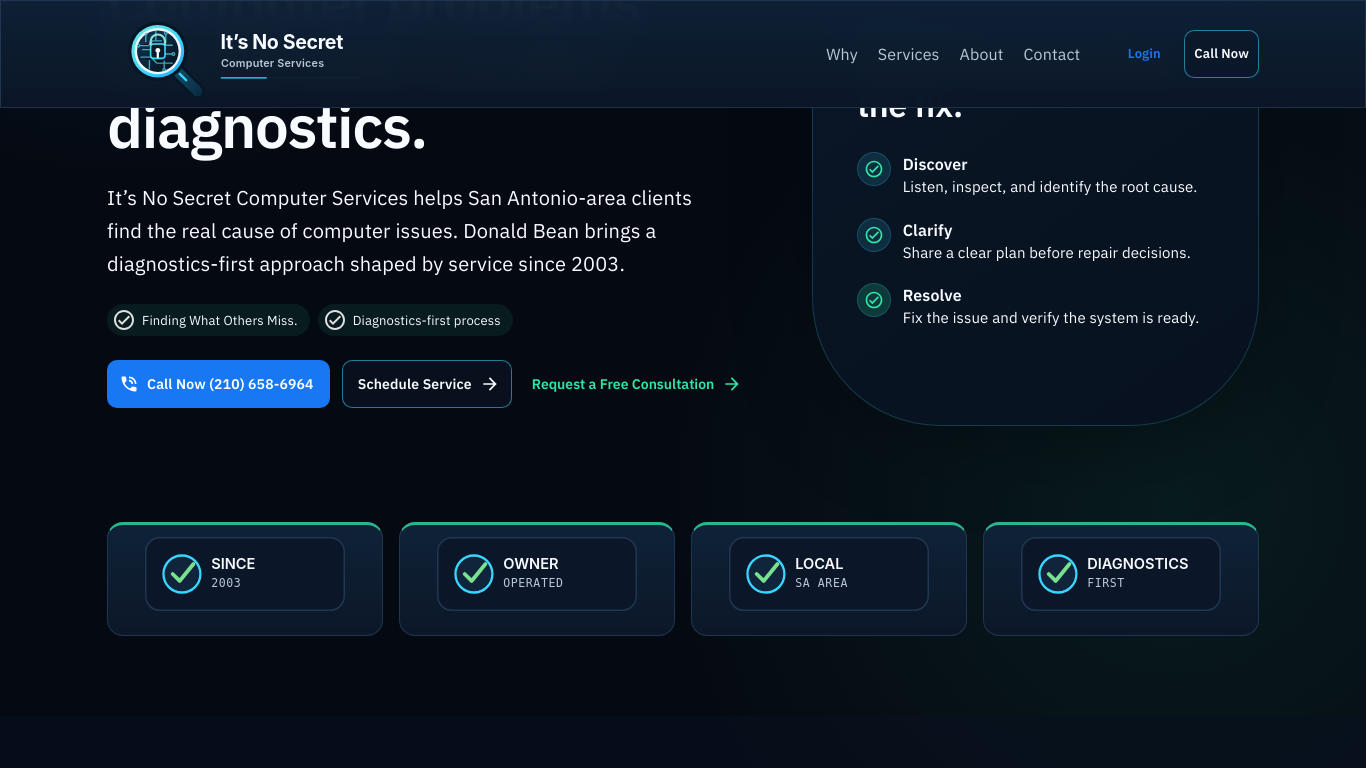
Test: It’s No Secret marketing site › validates and submits the consultation modal payload to the public leads endpoint
The width and height of the screenshot is (1366, 768).
(page scrolled)
Click the button "Request a Free Consultation": {"x": 635, "y": 384} [524,360,746,408]
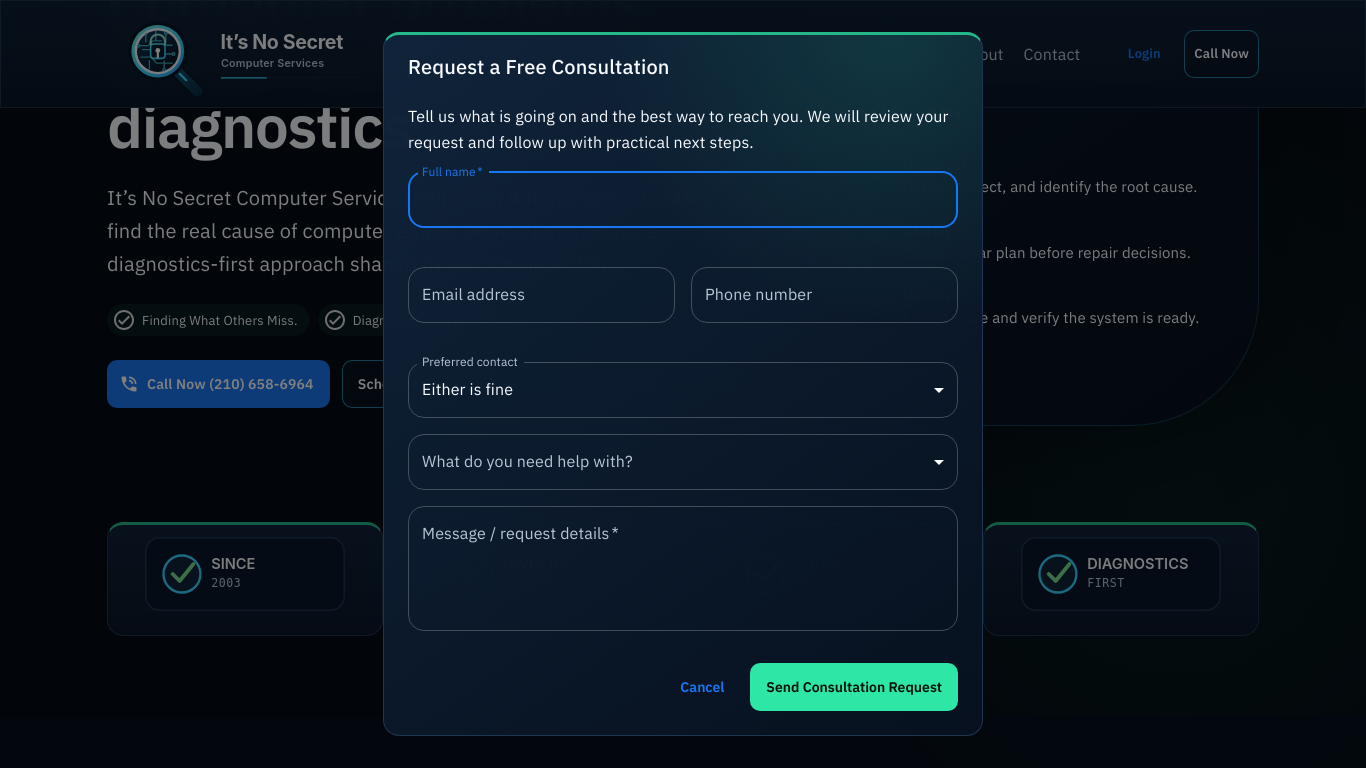
Click the button "Send Consultation Request": {"x": 854, "y": 687} [750,663,958,711]
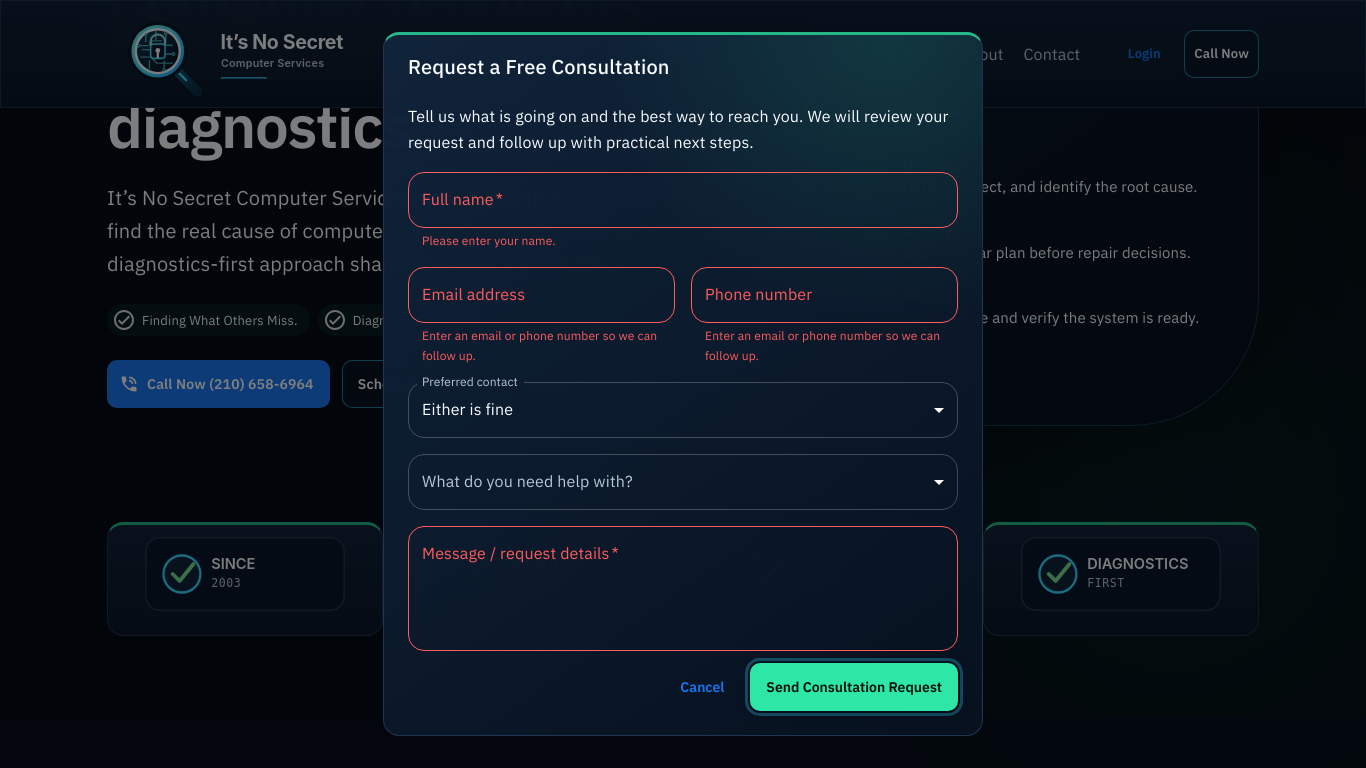
Result: the text "Please enter your name." is shown at [422,233,556,248]
In the field labelled "Full name *": {"x": 683, "y": 200} [408,172,958,228], type " Jane Visitor "
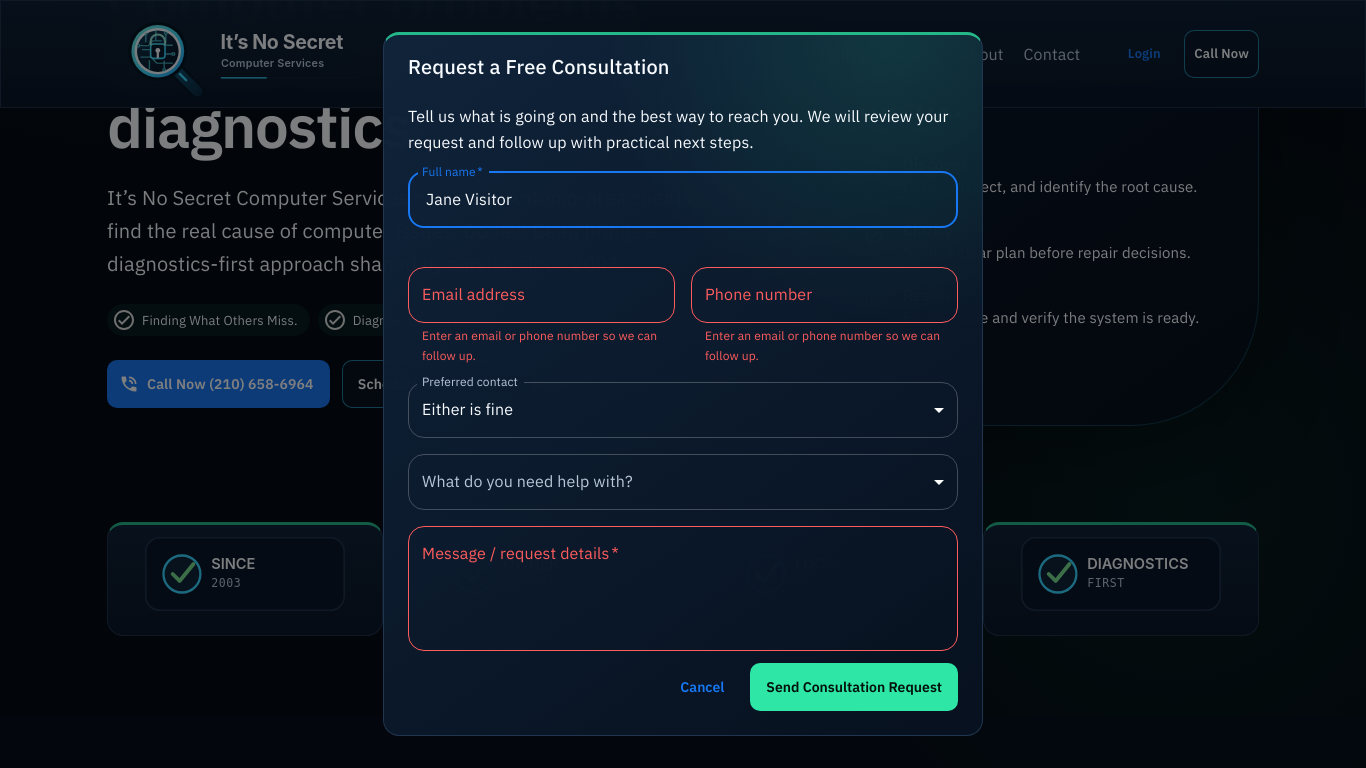
In the field labelled "Email address": {"x": 542, "y": 295} [408,267,675,323], type " JANE@EXAMPLE.COM "
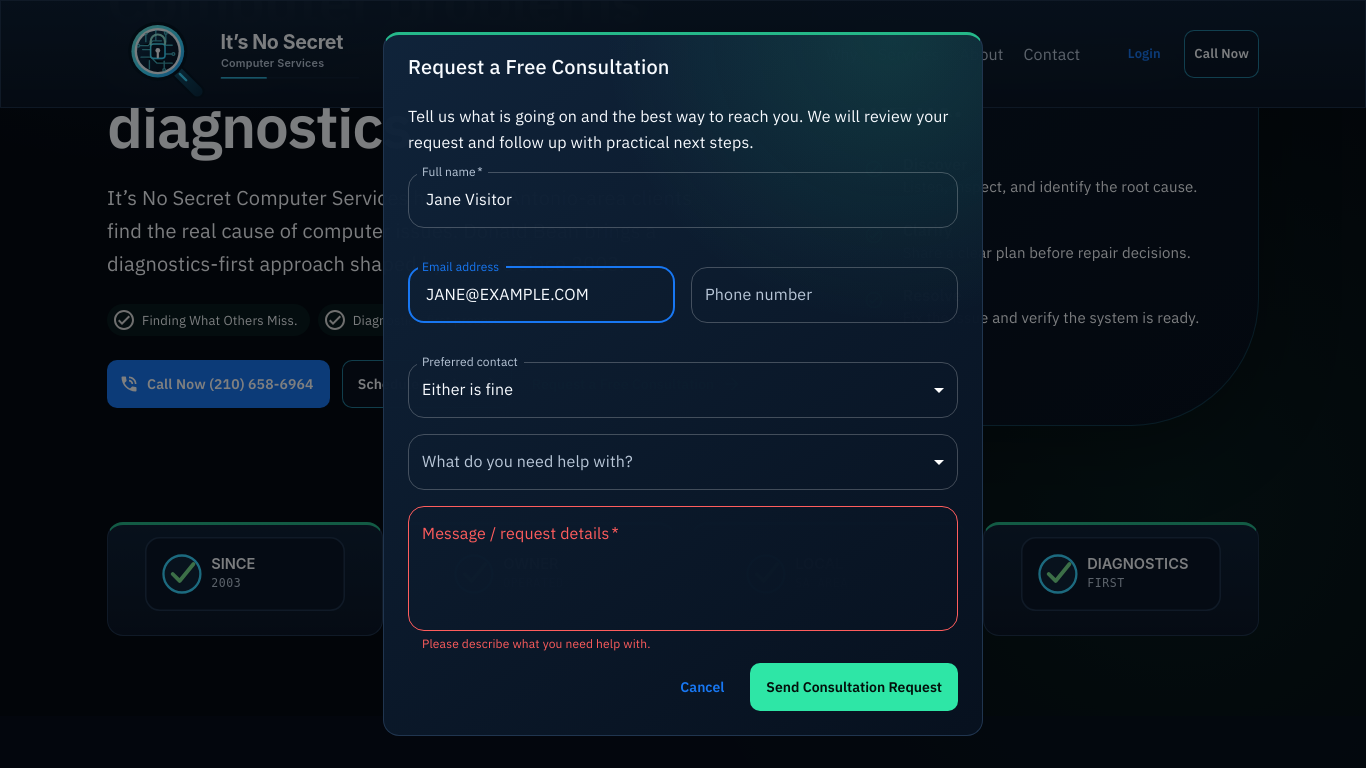
In the text box labelled "Message / request details *": {"x": 683, "y": 568} [422,522,944,614], type " Laptop will not start. "
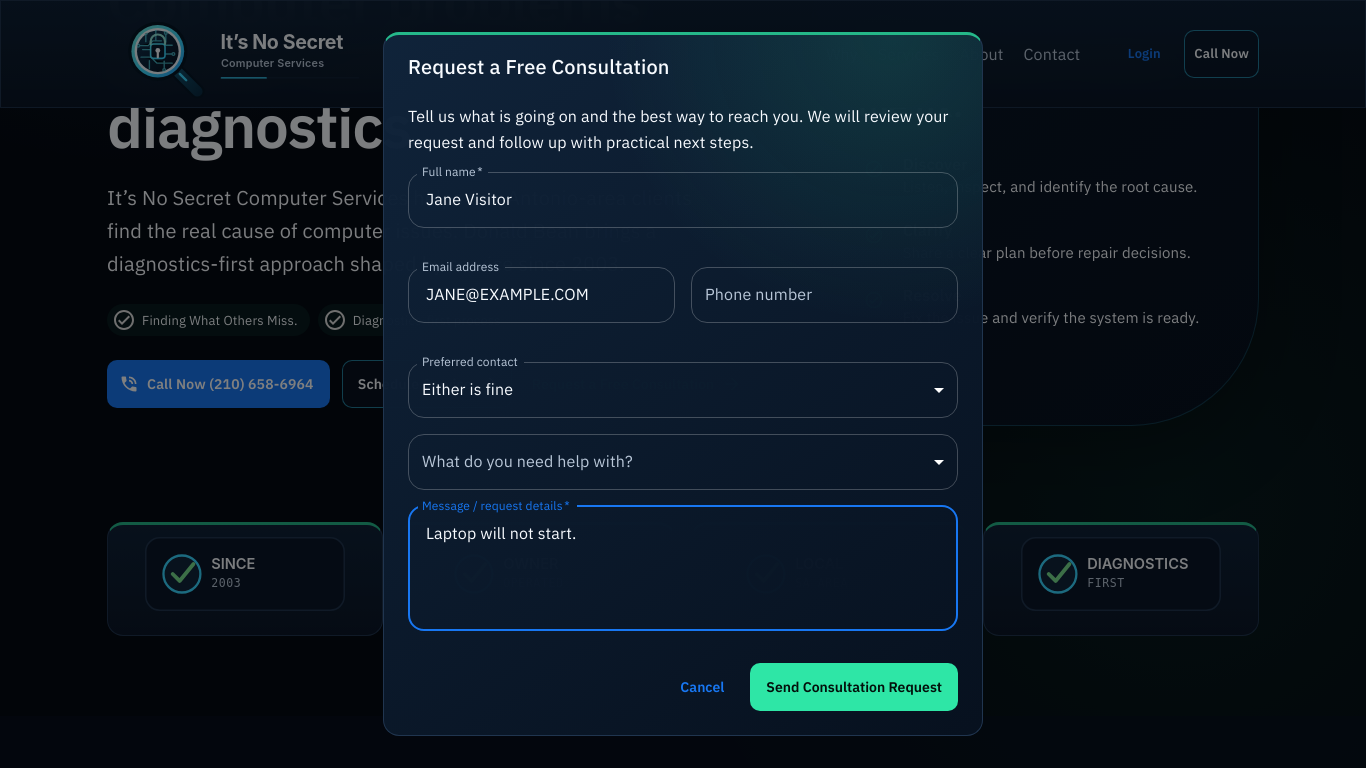
Click the button "Send Consultation Request": {"x": 854, "y": 687} [750,663,958,711]
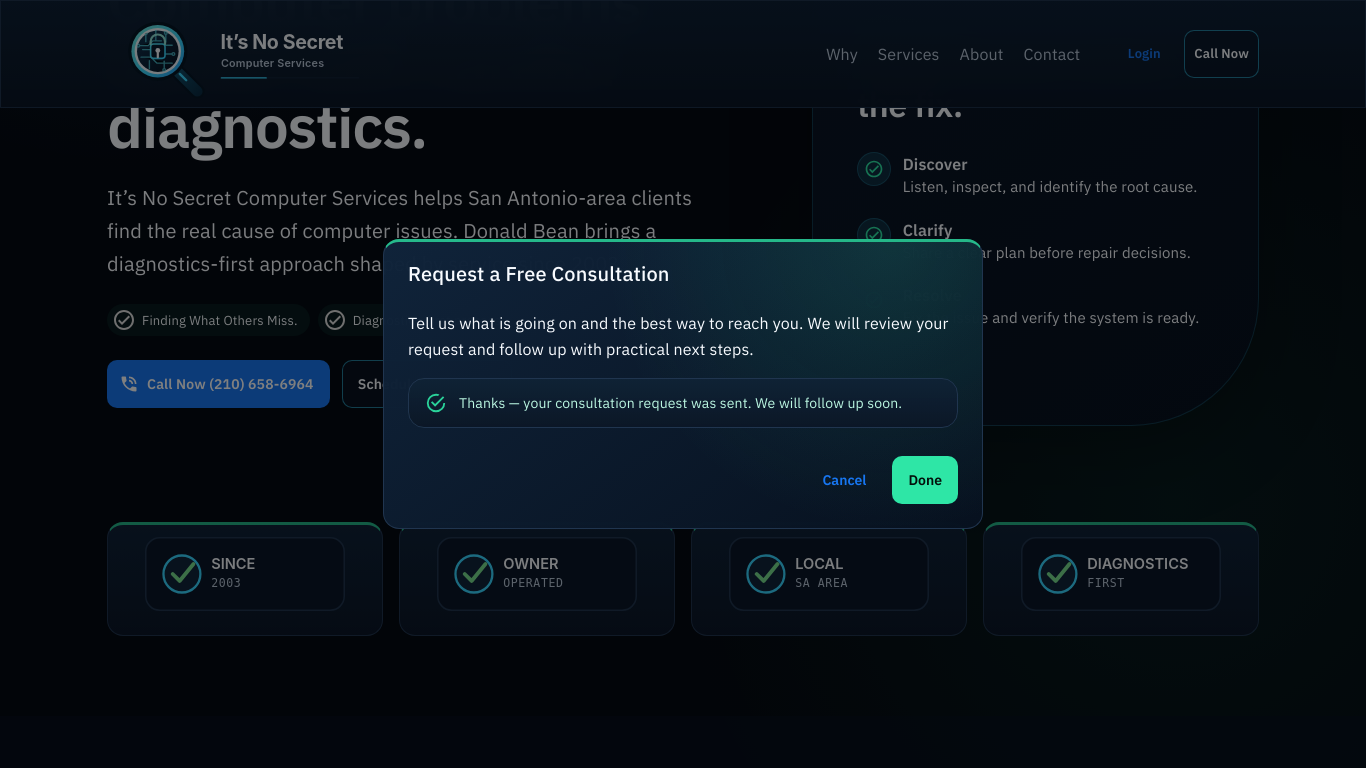
Result: the text "Thanks — your consultation request was sent" is shown at [459,394,902,412]
